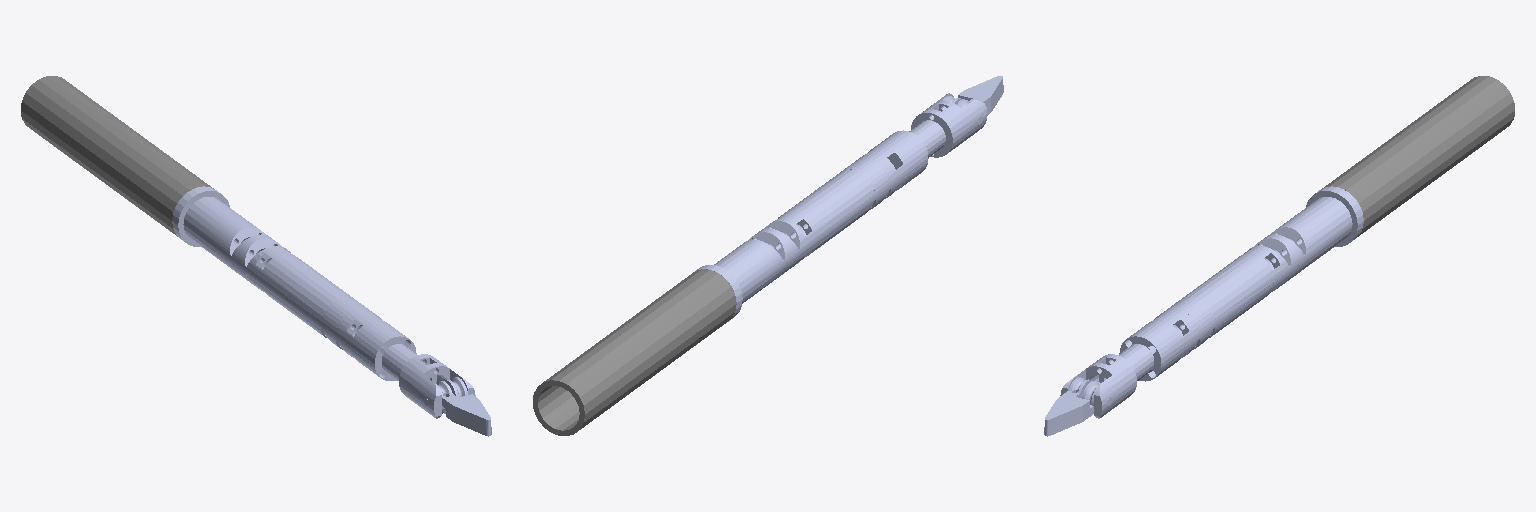
robot.urdf — B_snake_URDF.SLDASM:
<?xml version="1.0" encoding="utf-8"?>
<!-- This URDF was automatically created by SolidWorks to URDF Exporter! Originally created by [author] ([email redacted]) 
     Commit Version: 1.6.0-4-g7f85cfe  Build Version: 1.6.7995.38578
     For more information, please see http://wiki.ros.org/sw_urdf_exporter -->
<robot
  name="B_snake_URDF.SLDASM">
  <link
    name="base_link">
    <inertial>
      <origin
        xyz="-6.0019E-19 -0.025 1.5308E-18"
        rpy="0 0 0" />
      <mass
        value="0.0014137" />
      <inertia
        ixx="3.0901E-07"
        ixy="4.5457E-39"
        ixz="-1.5358E-40"
        iyy="2.8981E-08"
        iyz="1.7147E-23"
        izz="3.0901E-07" />
    </inertial>
    <visual>
      <origin
        xyz="0 0 0"
        rpy="0 0 0" />
      <geometry>
        <mesh
          filename="package://B_snake_URDF.SLDASM/meshes/base_link.STL" />
      </geometry>
      <material
        name="">
        <color
          rgba="0.6 0.6 0.6 1" />
      </material>
    </visual>
    <collision>
      <origin
        xyz="0 0 0"
        rpy="0 0 0" />
      <geometry>
        <mesh
          filename="package://B_snake_URDF.SLDASM/meshes/base_link.STL" />
      </geometry>
    </collision>
  </link>
  <link
    name="snake_start_link">
    <inertial>
      <origin
        xyz="1.2416E-09 -4.4549E-05 -0.0095707"
        rpy="0 0 0" />
      <mass
        value="0.00071324" />
      <inertia
        ixx="3.1719E-08"
        ixy="-2.2099E-14"
        ixz="2.9749E-15"
        iyy="3.1792E-08"
        iyz="3.6371E-10"
        izz="8.4865E-09" />
    </inertial>
    <visual>
      <origin
        xyz="0 0 0"
        rpy="0 0 0" />
      <geometry>
        <mesh
          filename="package://B_snake_URDF.SLDASM/meshes/snake_start_link.STL" />
      </geometry>
      <material
        name="">
        <color
          rgba="0.79216 0.81961 0.93333 1" />
      </material>
    </visual>
    <collision>
      <origin
        xyz="0 0 0"
        rpy="0 0 0" />
      <geometry>
        <mesh
          filename="package://B_snake_URDF.SLDASM/meshes/snake_start_link.STL" />
      </geometry>
    </collision>
  </link>
  <joint
    name="base_joint"
    type="prismatic">
    <origin
      xyz="0 -0.065 0"
      rpy="1.5708 0 0" />
    <parent
      link="base_link" />
    <child
      link="snake_start_link" />
    <axis
      xyz="0 0 1" />
    <limit
      lower="0"
      upper="0.2"
      effort="10"
      velocity="0.05" />
  </joint>
  <link
    name="shoulder_link">
    <inertial>
      <origin
        xyz="5.7843E-08 -0.00055751 0.0025749"
        rpy="0 0 0" />
      <mass
        value="0.00011415" />
      <inertia
        ixx="7.4251E-10"
        ixy="-5.3952E-14"
        ixz="1.8424E-14"
        iyy="8.8662E-10"
        iyz="-4.9693E-12"
        izz="1.2304E-09" />
    </inertial>
    <visual>
      <origin
        xyz="0 0 0"
        rpy="0 0 0" />
      <geometry>
        <mesh
          filename="package://B_snake_URDF.SLDASM/meshes/shoulder_link.STL" />
      </geometry>
      <material
        name="">
        <color
          rgba="0.79216 0.81961 0.93333 1" />
      </material>
    </visual>
    <collision>
      <origin
        xyz="0 0 0"
        rpy="0 0 0" />
      <geometry>
        <mesh
          filename="package://B_snake_URDF.SLDASM/meshes/shoulder_link.STL" />
      </geometry>
    </collision>
  </link>
  <joint
    name="shoulder_joint_prox"
    type="revolute">
    <origin
      xyz="0 0 0.0025"
      rpy="0 0 0" />
    <parent
      link="snake_start_link" />
    <child
      link="shoulder_link" />
    <axis
      xyz="1 0 0" />
    <limit
      lower="-0.785"
      upper="0"
      effort="1"
      velocity="1" />
  </joint>
  <link
    name="upperarm_link">
    <inertial>
      <origin
        xyz="-6.4381E-09 1.461E-07 0.012946"
        rpy="0 0 0" />
      <mass
        value="0.00066722" />
      <inertia
        ixx="3.3843E-08"
        ixy="4.6496E-14"
        ixz="-3.0799E-14"
        iyy="3.395E-08"
        iyz="7.5403E-10"
        izz="7.4625E-09" />
    </inertial>
    <visual>
      <origin
        xyz="0 0 0"
        rpy="0 0 0" />
      <geometry>
        <mesh
          filename="package://B_snake_URDF.SLDASM/meshes/upperarm_link.STL" />
      </geometry>
      <material
        name="">
        <color
          rgba="0.79216 0.81961 0.93333 1" />
      </material>
    </visual>
    <collision>
      <origin
        xyz="0 0 0"
        rpy="0 0 0" />
      <geometry>
        <mesh
          filename="package://B_snake_URDF.SLDASM/meshes/upperarm_link.STL" />
      </geometry>
    </collision>
  </link>
  <joint
    name="shoulder_joint_dist"
    type="revolute">
    <origin
      xyz="0 0 0.005"
      rpy="0 0 -3.1416" />
    <parent
      link="shoulder_link" />
    <child
      link="upperarm_link" />
    <axis
      xyz="-1 0 0" />
    <limit
      lower="0"
      upper="0.785"
      effort="1"
      velocity="1" />
  </joint>
  <link
    name="elbow_link">
    <inertial>
      <origin
        xyz="5.7843E-08 -0.00055751 0.0025749"
        rpy="0 0 0" />
      <mass
        value="0.00011415" />
      <inertia
        ixx="7.4251E-10"
        ixy="-5.3952E-14"
        ixz="1.8424E-14"
        iyy="8.8662E-10"
        iyz="-4.9693E-12"
        izz="1.2304E-09" />
    </inertial>
    <visual>
      <origin
        xyz="0 0 0"
        rpy="0 0 0" />
      <geometry>
        <mesh
          filename="package://B_snake_URDF.SLDASM/meshes/elbow_link.STL" />
      </geometry>
      <material
        name="">
        <color
          rgba="0.79216 0.81961 0.93333 1" />
      </material>
    </visual>
    <collision>
      <origin
        xyz="0 0 0"
        rpy="0 0 0" />
      <geometry>
        <mesh
          filename="package://B_snake_URDF.SLDASM/meshes/elbow_link.STL" />
      </geometry>
    </collision>
  </link>
  <joint
    name="elbow_joint_prox"
    type="revolute">
    <origin
      xyz="0 0 0.025"
      rpy="0 0 0" />
    <parent
      link="upperarm_link" />
    <child
      link="elbow_link" />
    <axis
      xyz="1 0 0" />
    <limit
      lower="-0.785"
      upper="0"
      effort="1"
      velocity="1" />
  </joint>
  <link
    name="forearm_link">
    <inertial>
      <origin
        xyz="-1.5817E-08 0.00011358 0.0066338"
        rpy="0 0 0" />
      <mass
        value="0.00027925" />
      <inertia
        ixx="5.1214E-09"
        ixy="-9.0875E-15"
        ixz="-2.1113E-14"
        iyy="5.1602E-09"
        iyz="1.9093E-10"
        izz="3.2376E-09" />
    </inertial>
    <visual>
      <origin
        xyz="0 0 0"
        rpy="0 0 0" />
      <geometry>
        <mesh
          filename="package://B_snake_URDF.SLDASM/meshes/forearm_link.STL" />
      </geometry>
      <material
        name="">
        <color
          rgba="0.79216 0.81961 0.93333 1" />
      </material>
    </visual>
    <collision>
      <origin
        xyz="0 0 0"
        rpy="0 0 0" />
      <geometry>
        <mesh
          filename="package://B_snake_URDF.SLDASM/meshes/forearm_link.STL" />
      </geometry>
    </collision>
  </link>
  <joint
    name="elbow_joint_dist"
    type="revolute">
    <origin
      xyz="0 0 0.005"
      rpy="0 0 3.1416" />
    <parent
      link="elbow_link" />
    <child
      link="forearm_link" />
    <axis
      xyz="-1 0 0" />
    <limit
      lower="0"
      upper="0.785"
      effort="1"
      velocity="1" />
  </joint>
  <link
    name="hand_link">
    <inertial>
      <origin
        xyz="-4.0814E-10 -9.1588E-10 0.011037"
        rpy="0 0 0" />
      <mass
        value="0.00040496" />
      <inertia
        ixx="1.3566E-08"
        ixy="7.1234E-15"
        ixz="-8.9589E-16"
        iyy="1.4395E-08"
        iyz="3.0522E-15"
        izz="3.3828E-09" />
    </inertial>
    <visual>
      <origin
        xyz="0 0 0"
        rpy="0 0 0" />
      <geometry>
        <mesh
          filename="package://B_snake_URDF.SLDASM/meshes/hand_link.STL" />
      </geometry>
      <material
        name="">
        <color
          rgba="0.79216 0.81961 0.93333 1" />
      </material>
    </visual>
    <collision>
      <origin
        xyz="0 0 0"
        rpy="0 0 0" />
      <geometry>
        <mesh
          filename="package://B_snake_URDF.SLDASM/meshes/hand_link.STL" />
      </geometry>
    </collision>
  </link>
  <joint
    name="wrist_joint"
    type="revolute">
    <origin
      xyz="0 0 0.0105"
      rpy="0 0 0" />
    <parent
      link="forearm_link" />
    <child
      link="hand_link" />
    <axis
      xyz="0 0 -1" />
    <limit
      lower="-1.57"
      upper="1.57"
      effort="1"
      velocity="1" />
  </joint>
  <link
    name="gripper_1">
    <inertial>
      <origin
        xyz="-0.00064476 0.0018039 0.0039496"
        rpy="0 0 0" />
      <mass
        value="9.5944E-05" />
      <inertia
        ixx="1.9226E-09"
        ixy="-1.0153E-10"
        ixz="-2.2769E-10"
        iyy="1.7011E-09"
        iyz="-6.335E-10"
        izz="4.994E-10" />
    </inertial>
    <visual>
      <origin
        xyz="0 0 0"
        rpy="0 0 0" />
      <geometry>
        <mesh
          filename="package://B_snake_URDF.SLDASM/meshes/gripper_1.STL" />
      </geometry>
      <material
        name="">
        <color
          rgba="0.79216 0.81961 0.93333 1" />
      </material>
    </visual>
    <collision>
      <origin
        xyz="0 0 0"
        rpy="0 0 0" />
      <geometry>
        <mesh
          filename="package://B_snake_URDF.SLDASM/meshes/gripper_1.STL" />
      </geometry>
    </collision>
  </link>
  <joint
    name="gripper_joint_1"
    type="revolute">
    <origin
      xyz="0 0 0.019"
      rpy="0.3293 0 0" />
    <parent
      link="hand_link" />
    <child
      link="gripper_1" />
    <axis
      xyz="-1 0 0" />
    <limit
      lower="-0.785"
      upper="0"
      effort="1"
      velocity="1" />
  </joint>
  <link
    name="gripper_2">
    <inertial>
      <origin
        xyz="-0.00064476 0.0018039 0.0039496"
        rpy="0 0 0" />
      <mass
        value="9.5944E-05" />
      <inertia
        ixx="1.9226E-09"
        ixy="-1.0153E-10"
        ixz="-2.2769E-10"
        iyy="1.7011E-09"
        iyz="-6.335E-10"
        izz="4.994E-10" />
    </inertial>
    <visual>
      <origin
        xyz="0 0 0"
        rpy="0 0 0" />
      <geometry>
        <mesh
          filename="package://B_snake_URDF.SLDASM/meshes/gripper_2.STL" />
      </geometry>
      <material
        name="">
        <color
          rgba="0.79216 0.81961 0.93333 1" />
      </material>
    </visual>
    <collision>
      <origin
        xyz="0 0 0"
        rpy="0 0 0" />
      <geometry>
        <mesh
          filename="package://B_snake_URDF.SLDASM/meshes/gripper_2.STL" />
      </geometry>
    </collision>
  </link>
  <joint
    name="gripper_2"
    type="revolute">
    <origin
      xyz="0 0 0.019"
      rpy="0.3293 0 3.1416" />
    <parent
      link="hand_link" />
    <child
      link="gripper_2" />
    <axis
      xyz="1 0 0" />
    <limit
      lower="0"
      upper="0.785"
      effort="1"
      velocity="1" />
  </joint>
</robot>

--- What the picture shows (computed from the rendered views, not written in the file) ---
Views: 3 orthographic renders of the robot side by side, from view 1: azimuth 30°, elevation 25°; view 2: azimuth 150°, elevation 25°; view 3: azimuth 330°, elevation 25°.
Model B_snake_URDF.SLDASM with 9 links and 8 joints (7 revolute, 1 prismatic), rooted at base_link, posed all joints at 0.
Visible links, largest first — view 1: base_link, upperarm_link, snake_start_link, hand_link, forearm_link, gripper_1, elbow_link, shoulder_link, gripper_2; view 2: base_link, upperarm_link, hand_link, snake_start_link, forearm_link, elbow_link, shoulder_link, gripper_1; view 3: base_link, upperarm_link, snake_start_link, hand_link, forearm_link, gripper_1, elbow_link, shoulder_link, gripper_2.
Link boxes in pixels (x1,y1,x2,y2): base_link: [21, 76, 213, 236]; upperarm_link: [246, 246, 353, 337]; snake_start_link: [172, 186, 265, 270]; hand_link: [382, 344, 475, 418]; forearm_link: [337, 309, 416, 380]; gripper_1: [435, 381, 490, 427]; elbow_link: [322, 298, 368, 349]; shoulder_link: [231, 234, 280, 283]; gripper_2: [444, 377, 491, 436]; base_link: [533, 269, 736, 435]; upperarm_link: [764, 169, 876, 263]; hand_link: [889, 93, 987, 168]; snake_start_link: [696, 240, 785, 321]; forearm_link: [858, 130, 928, 198]; elbow_link: [841, 158, 891, 209]; shoulder_link: [749, 228, 800, 276]; gripper_1: [957, 76, 1002, 108]; base_link: [1322, 76, 1514, 236]; upperarm_link: [1182, 246, 1289, 337]; snake_start_link: [1270, 186, 1363, 272]; hand_link: [1060, 344, 1153, 418]; forearm_link: [1119, 309, 1198, 381]; gripper_1: [1045, 377, 1091, 427]; elbow_link: [1167, 298, 1213, 349]; shoulder_link: [1255, 234, 1304, 282]; gripper_2: [1044, 381, 1100, 436].
Bounding box of the posed robot: 0.01 × 0.1461 × 0.01 m (x, y, z).
9 mesh visuals loaded from 9 distinct referenced files (9 binary STL).